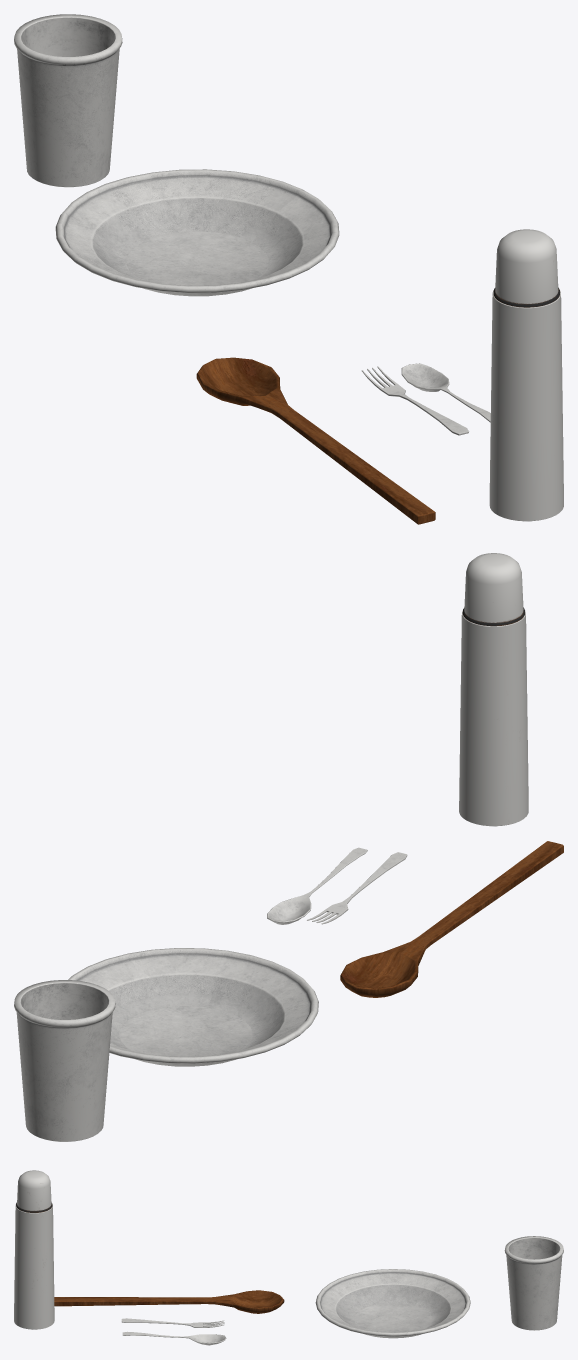
3 renders of one model, top to bottom at view 1: azimuth 30°, elevation 25°; view 2: azimuth 150°, elevation 25°; view 3: azimuth 270°, elevation 25°, orthographic. The views are drawn at different scales.
Parts seen in each view (by area): view 1: plate, coffee_flask, cup, wooden_spoon, spoon, fork; view 2: plate, coffee_flask, cup, wooden_spoon, spoon, fork; view 3: plate, coffee_flask, cup, wooden_spoon, spoon, fork.
Boxes of the visible parts, x1,y1,x2,y2 form: plate: (55,169,339,296); coffee_flask: (489,229,563,521); cup: (14,14,122,187); wooden_spoon: (196,357,435,524); spoon: (401,363,490,422); fork: (361,366,468,435); plate: (68,948,318,1066); coffee_flask: (459,553,528,826); cup: (14,980,115,1141); wooden_spoon: (340,841,563,997); spoon: (267,847,367,924); fork: (307,852,407,924); plate: (315,1269,470,1338); coffee_flask: (14,1170,54,1329); cup: (504,1236,563,1330); wooden_spoon: (54,1290,284,1313); spoon: (122,1331,226,1345); fork: (121,1318,224,1327).
Size of the model in its own units: 0.3057 by 0.342 by 1.08.
2 materials, 2 textured.
